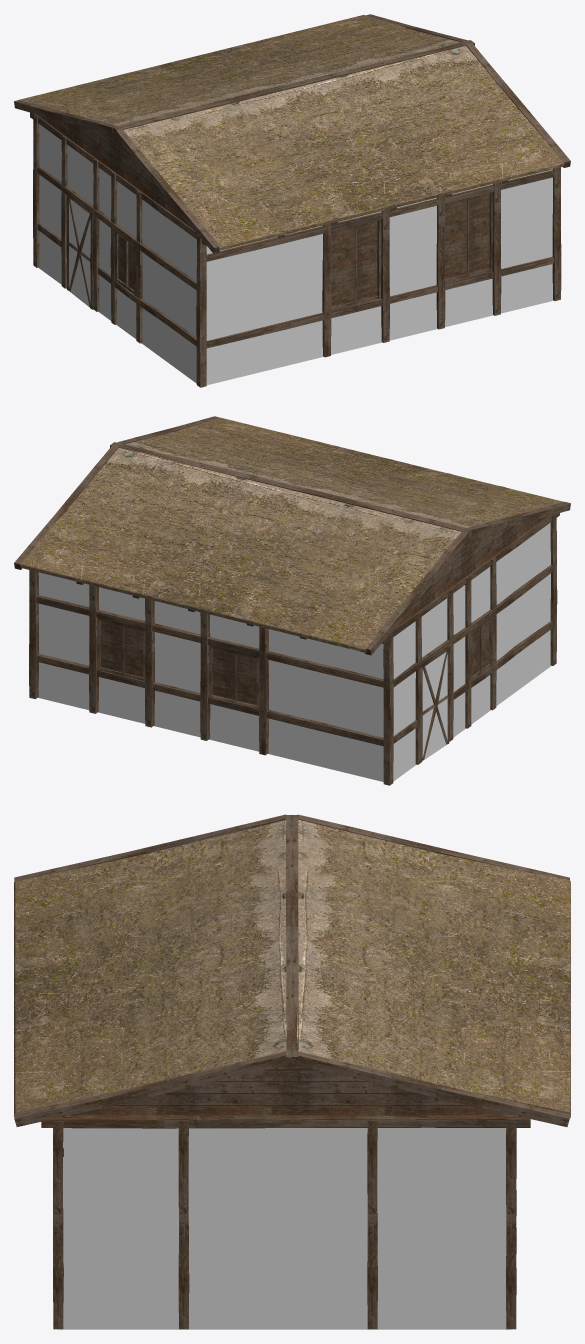
Rendered from HouseNPC.fbx.
3 renders of one model, top to bottom at view 1: azimuth 30°, elevation 25°; view 2: azimuth 150°, elevation 25°; view 3: azimuth 270°, elevation 25°, orthographic. The views are drawn at different scales.
Parts seen in each view (by area): view 1: Old house.002; view 2: Old house.002; view 3: Old house.002.
Boxes of the visible parts, x1,y1,x2,y2 form: Old house.002: (14, 14, 570, 387); Old house.002: (14, 416, 570, 785); Old house.002: (14, 814, 570, 1329).
Bounding box in the file's own units: 7.67 × 7.38 × 3.99.
4 materials, 2 textured.
